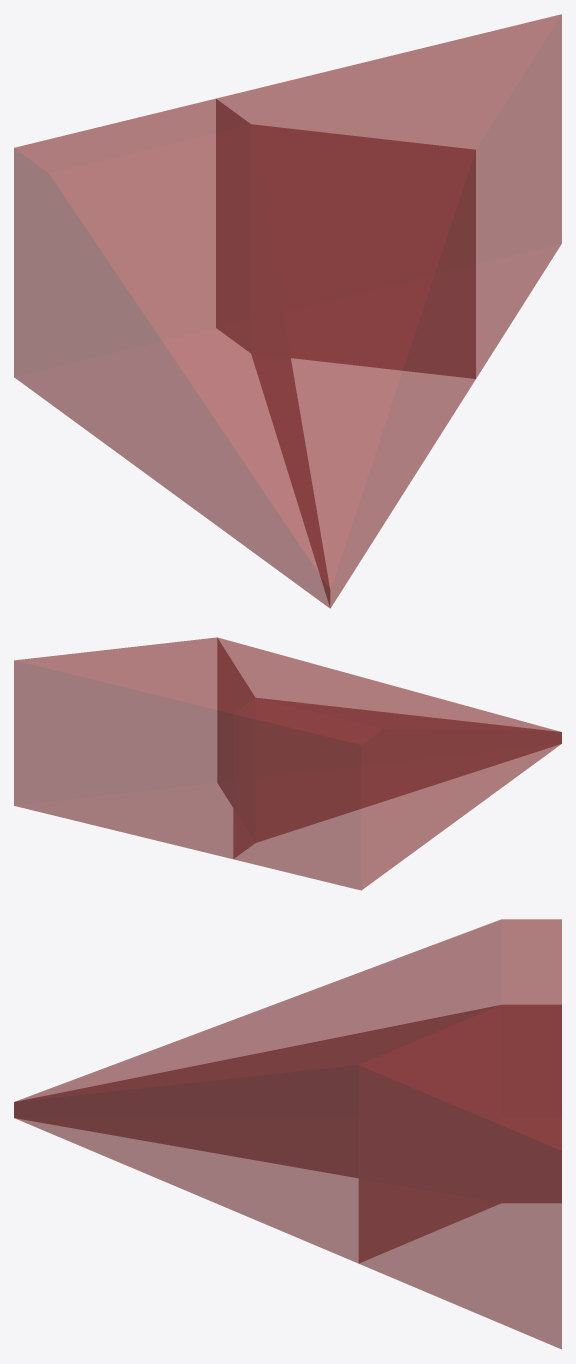
File: SM_Bld_Steps_01_Corner_Inner_03_Collision.fbx
3 renders of one model, top to bottom at view 1: azimuth 30°, elevation 25°; view 2: azimuth 150°, elevation 25°; view 3: azimuth 270°, elevation 25°, orthographic. The views are drawn at different scales.
Visible parts, largest first — view 1: SM_Bld_Steps_01_Corner_Inner_03_Collision; view 2: SM_Bld_Steps_01_Corner_Inner_03_Collision; view 3: SM_Bld_Steps_01_Corner_Inner_03_Collision.
Part boxes in pixels (left/top/right/bottom): SM_Bld_Steps_01_Corner_Inner_03_Collision: left=14, top=14, right=561, bottom=608; SM_Bld_Steps_01_Corner_Inner_03_Collision: left=14, top=637, right=561, bottom=890; SM_Bld_Steps_01_Corner_Inner_03_Collision: left=14, top=919, right=561, bottom=1349.
Bounding box in the file's own units: 250 × 100 × 250.
